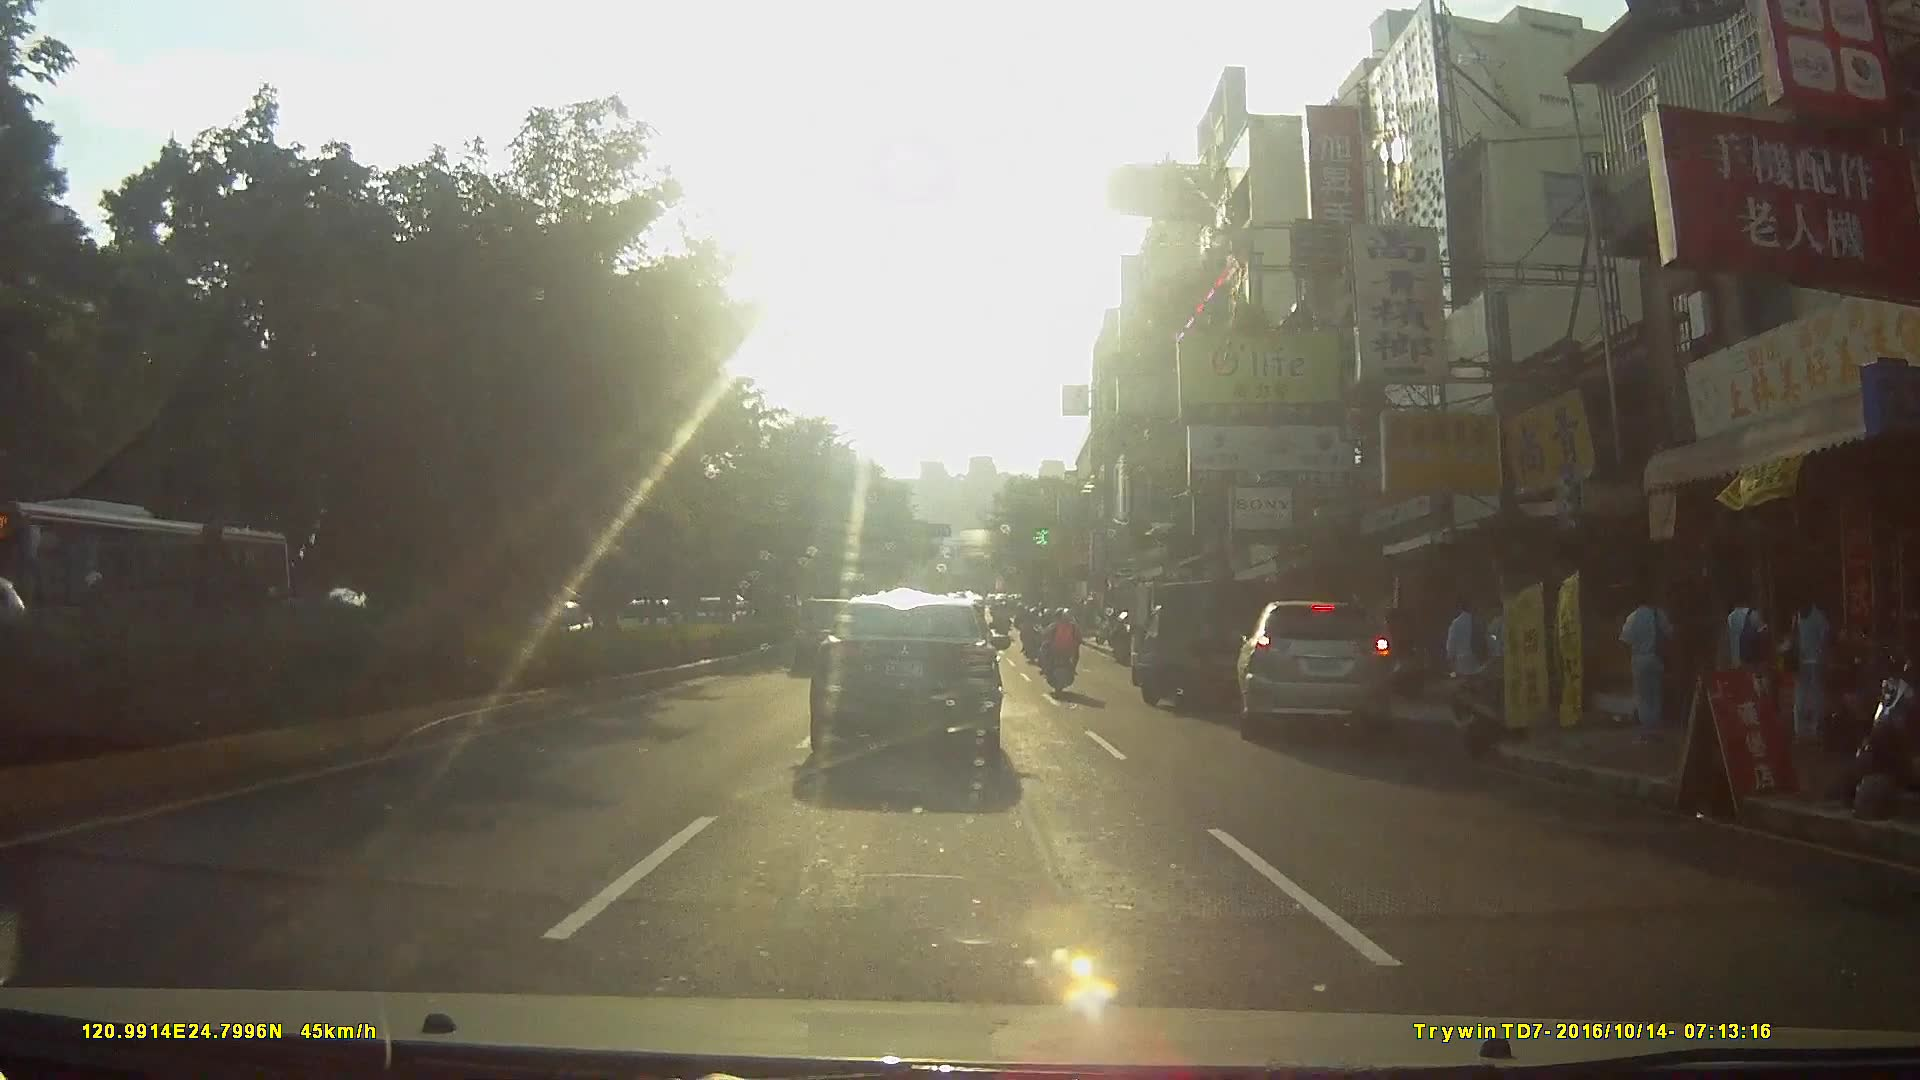pedestrian: (1786, 583, 1840, 756), (1726, 585, 1773, 761), (1625, 585, 1676, 743), (1444, 593, 1494, 719)
rider: (1039, 599, 1081, 695), (1022, 607, 1046, 663)
vehicle: (1, 496, 302, 665), (807, 593, 1029, 778), (1230, 590, 1420, 755), (1118, 568, 1255, 722)
